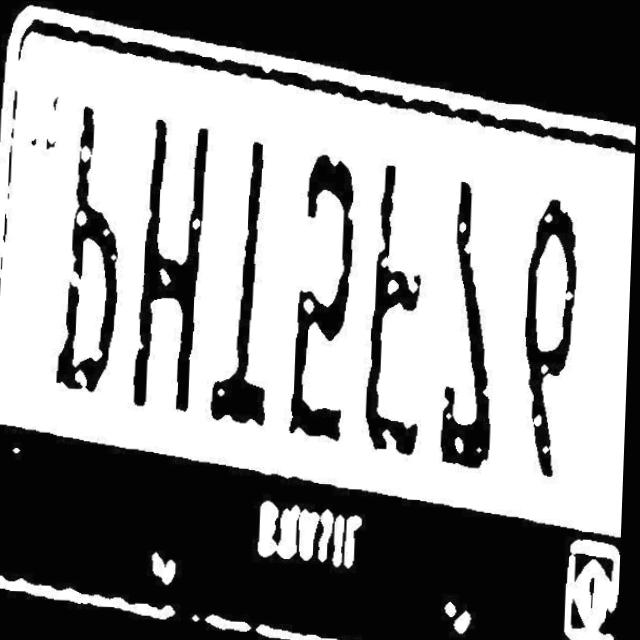5: (287, 117, 359, 453)
6: (516, 168, 599, 484)
7: (434, 158, 522, 478)
f: (354, 135, 447, 459)
h: (122, 104, 211, 440)
p: (53, 91, 127, 423)
t: (203, 115, 288, 445)
